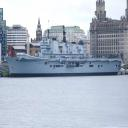Portanaves: (5, 25, 126, 78)
